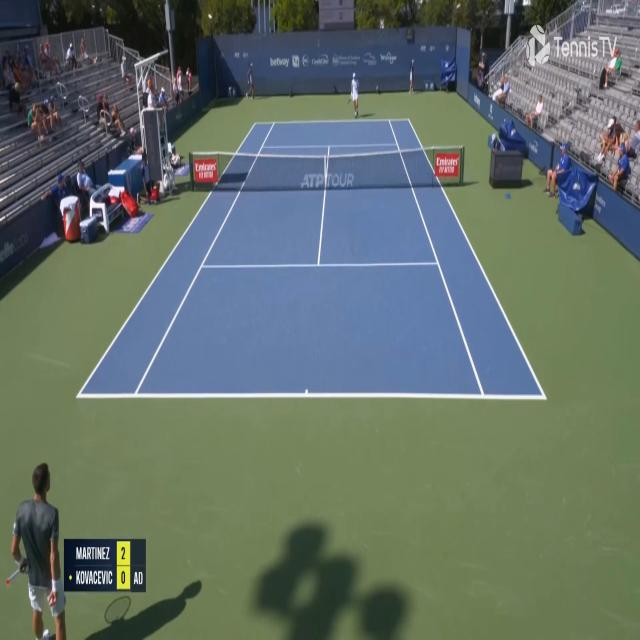tennis-player: (5, 456, 64, 640), (348, 70, 360, 120)
